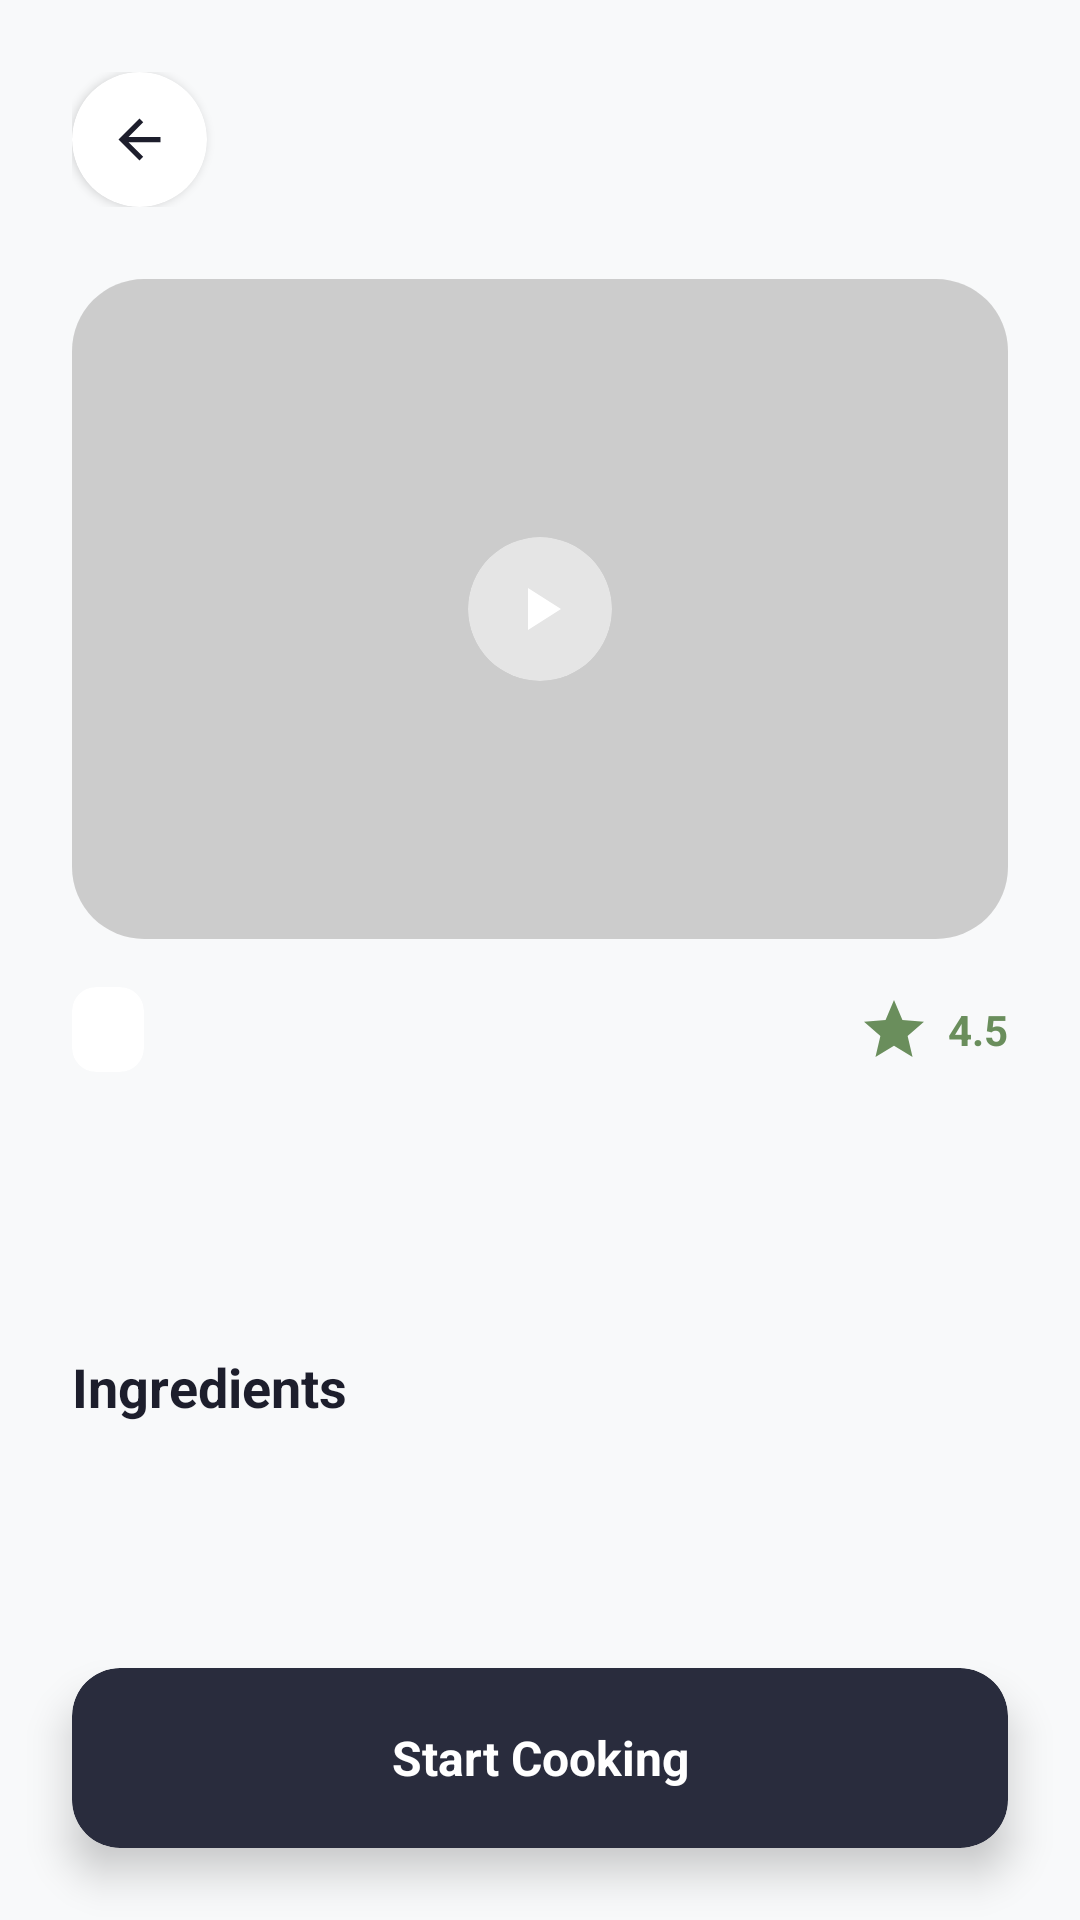

Where icons sit on this 1080 x 1920 app screen, as bbox(x1, y1, x2, y2):
arrow back: bbox(118, 118, 161, 161)
play: bbox(469, 537, 611, 680)
